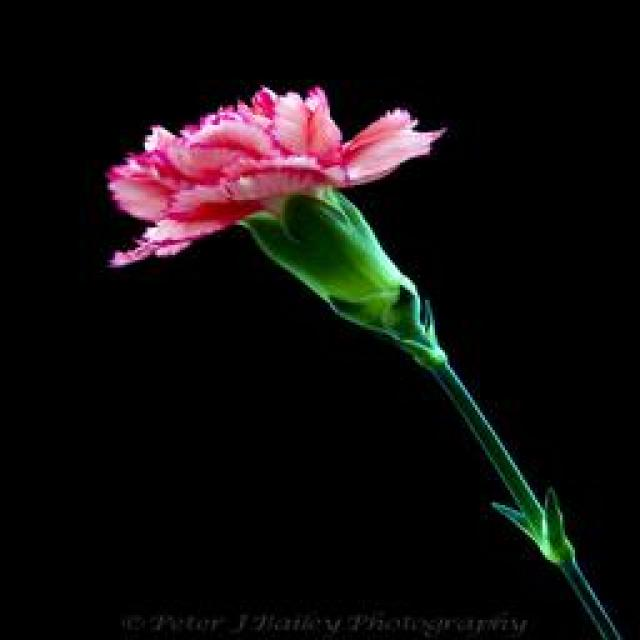carnation: (100, 58, 464, 330)
